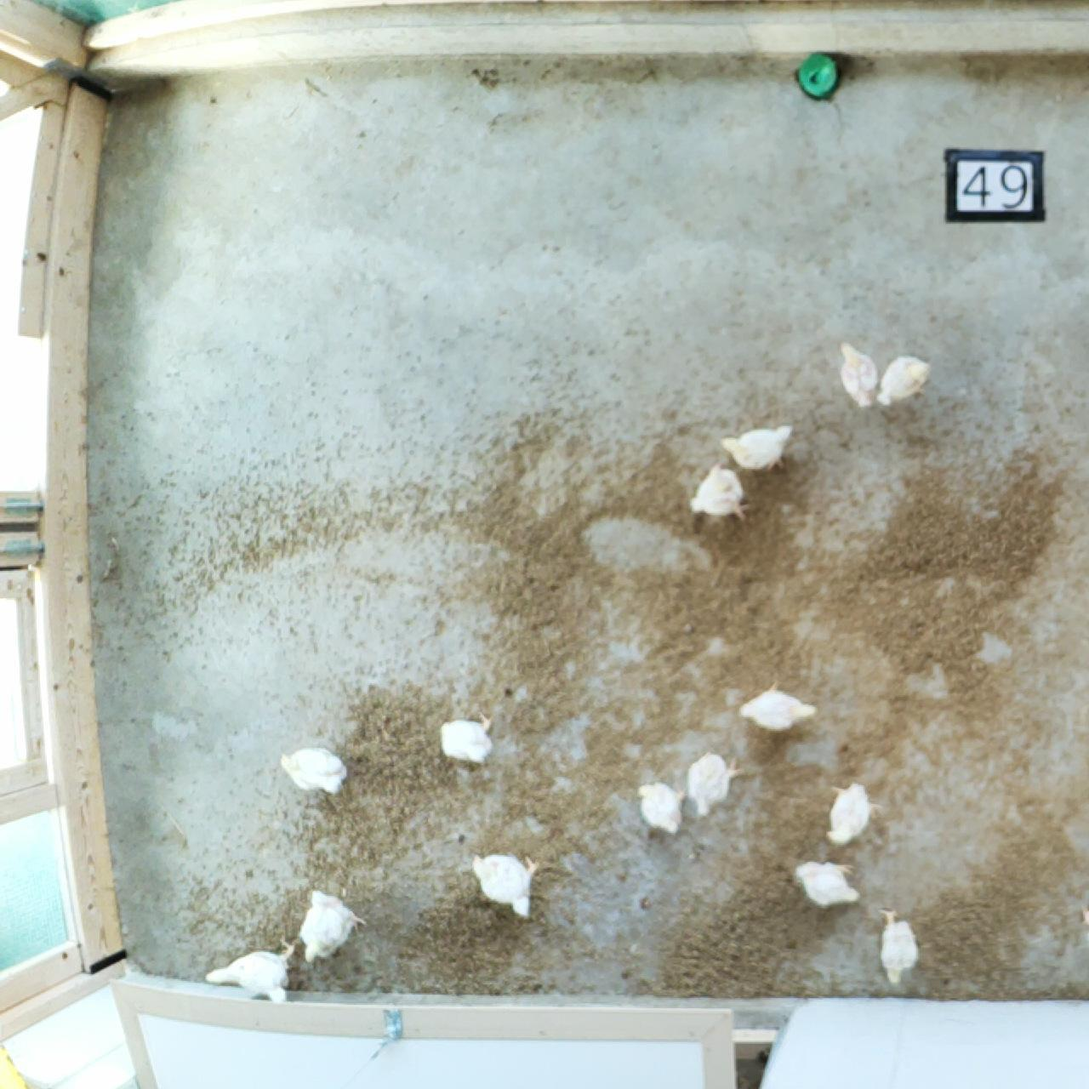chicken: (201, 930, 301, 1007), (294, 883, 370, 966), (463, 845, 543, 923), (819, 775, 887, 856), (737, 675, 823, 735), (687, 456, 753, 527), (432, 707, 503, 773), (682, 749, 748, 819), (717, 420, 797, 477), (872, 900, 923, 989), (278, 742, 357, 799), (792, 855, 869, 913), (875, 350, 935, 411), (631, 777, 689, 840), (834, 338, 881, 412)
